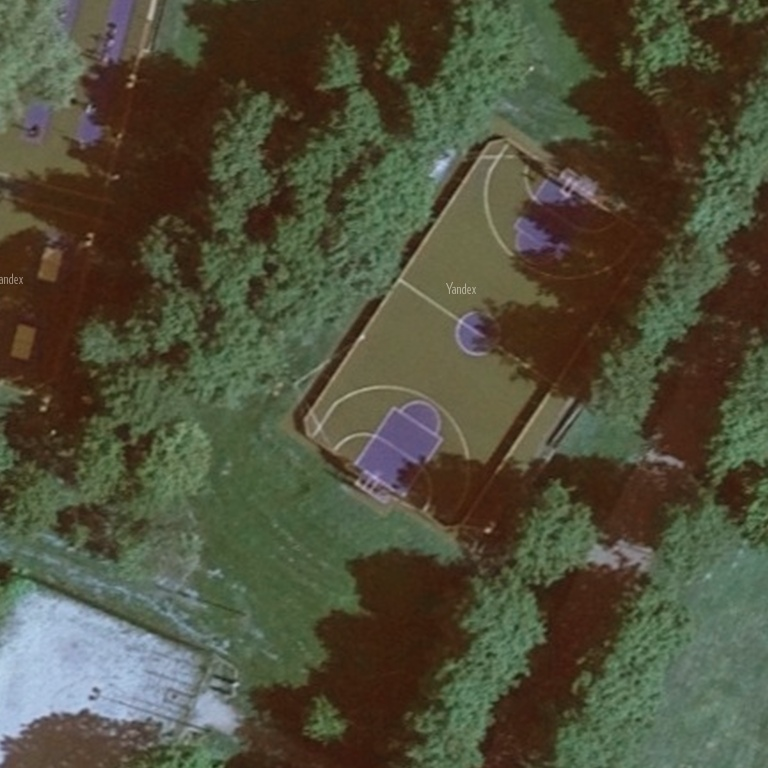basket_court: (284, 117, 674, 542)
